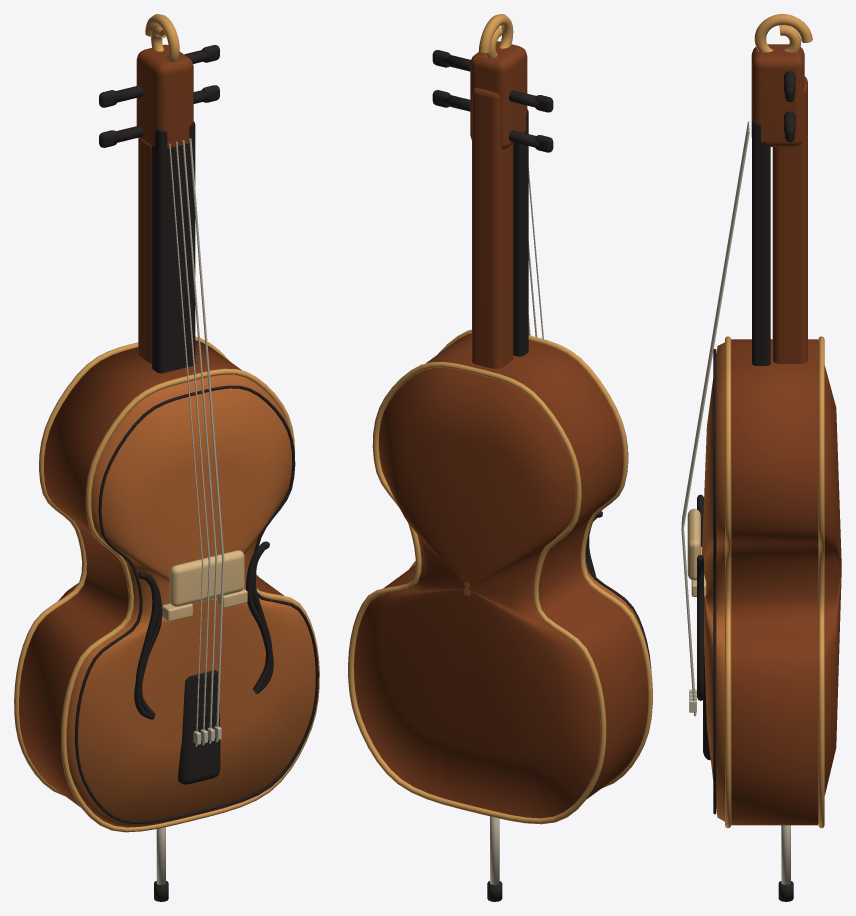
Rendered from cello.glb.
The picture shows the model from 3 angles, left to right: view 1: azimuth 30°, elevation 25°; view 2: azimuth 150°, elevation 25°; view 3: azimuth 270°, elevation 25°; orthographic projection.
Visible parts, largest first — view 1: Carved amber body, Ebony fingerboard, Inlaid purfling, Carved peg box, Inlaid purfling.001, Tailpiece, Inlaid purfling.002, Maple neck, Carved bridge, Wound string.003, Wound string.002, F hole (+4 smaller); view 2: Carved amber body, Maple neck, Inlaid purfling.002, Carved peg box, Ebony fingerboard, Inlaid purfling, Carved scroll, Endpin; view 3: Carved amber body, Maple neck, Ebony fingerboard, Carved peg box, Inlaid purfling, Inlaid purfling.002, Inlaid purfling.001, Wound string.003, Carved scroll, F hole.001, Carved bridge, Endpin (+4 smaller).
Boxes of the visible parts, x1,y1,x2,y2 form: Carved amber body: (19, 340, 315, 827); Ebony fingerboard: (152, 121, 195, 373); Inlaid purfling: (61, 368, 319, 832); Carved peg box: (136, 44, 193, 148); Inlaid purfling.001: (75, 385, 318, 823); Tailpiece: (178, 670, 220, 784); Inlaid purfling.002: (14, 336, 258, 796); Maple neck: (138, 137, 151, 363); Carved bridge: (169, 550, 244, 606); Wound string.003: (189, 138, 224, 741); Wound string.002: (182, 140, 217, 743); F hole: (134, 571, 162, 719); Carved amber body: (354, 333, 648, 818); Maple neck: (472, 88, 513, 368); Inlaid purfling.002: (348, 362, 606, 824); Carved peg box: (470, 41, 527, 149); Ebony fingerboard: (513, 109, 528, 356); Inlaid purfling: (409, 329, 652, 788); Carved scroll: (478, 14, 513, 58); Endpin: (490, 816, 499, 884); Carved amber body: (702, 339, 841, 825); Maple neck: (772, 76, 807, 363); Ebony fingerboard: (752, 121, 770, 365); Carved peg box: (751, 44, 804, 146); Inlaid purfling: (725, 336, 731, 828); Inlaid purfling.002: (818, 336, 824, 828); Inlaid purfling.001: (713, 349, 716, 814); Wound string.003: (681, 131, 749, 716); Carved scroll: (754, 14, 812, 52); F hole.001: (697, 555, 703, 700); Carved bridge: (687, 508, 700, 580); Endpin: (781, 825, 790, 884).
Bounding box in the file's own units: 0.5654 × 1.85 × 0.3033.
